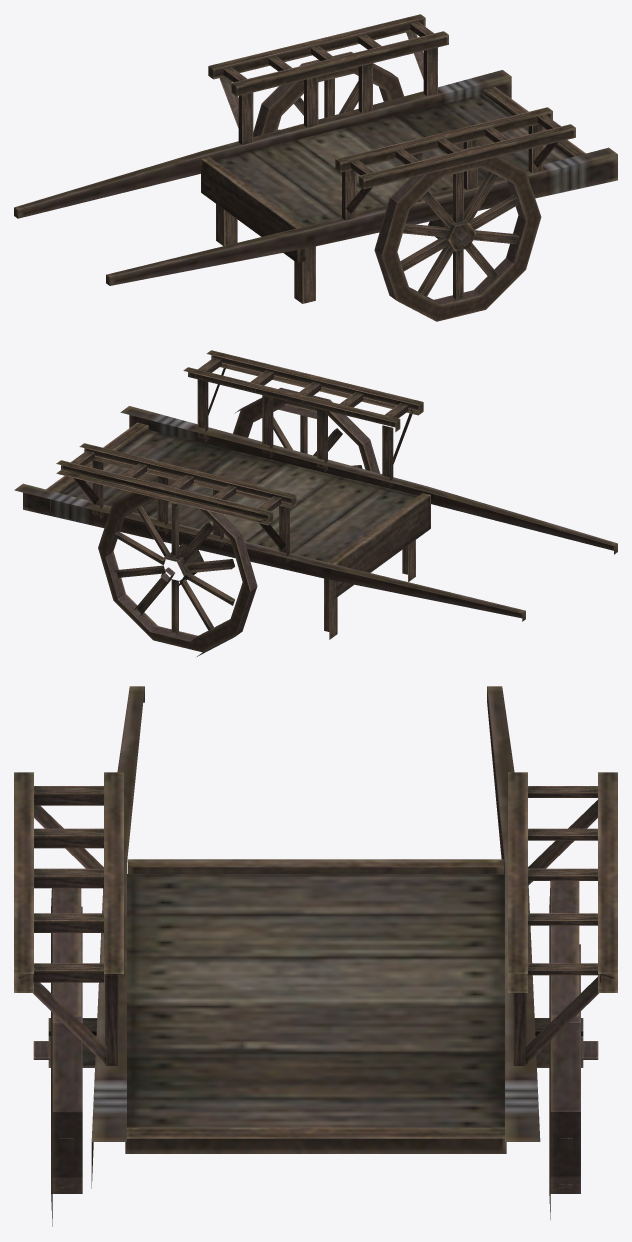
The model's file is JJS_QY_Che.FBX.
3 views of the same model, one above another, from view 1: azimuth 30°, elevation 25°; view 2: azimuth 150°, elevation 25°; view 3: azimuth 270°, elevation 25° (orthographic). The views are drawn at different scales.
Visible parts, largest first — view 1: JJS_QY_Che; view 2: JJS_QY_Che; view 3: JJS_QY_Che.
Boxes of the visible parts, bbox=[...] form: JJS_QY_Che: bbox=[14, 14, 617, 321]; JJS_QY_Che: bbox=[14, 350, 617, 656]; JJS_QY_Che: bbox=[14, 686, 617, 1226].
Size of the model in its own units: 722 by 235 by 390.
